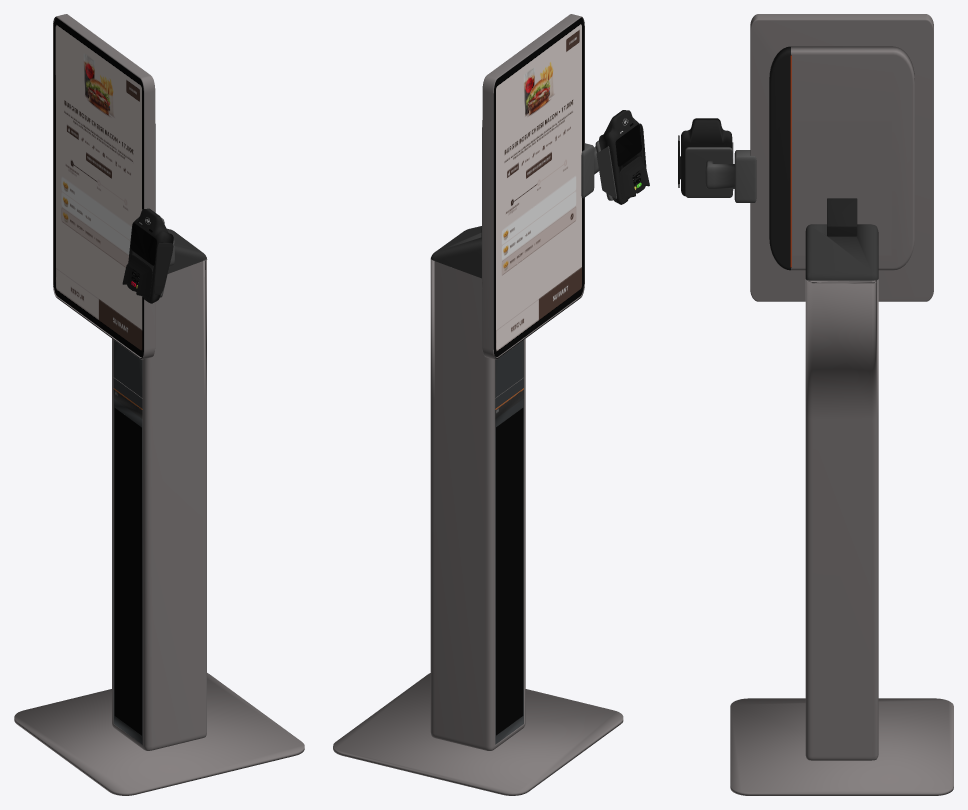
Rendered from borne_sunmi_v2.glb.
3 views of the same model, side by side, from view 1: azimuth 30°, elevation 25°; view 2: azimuth 150°, elevation 25°; view 3: azimuth 270°, elevation 25° (orthographic).
Parts seen in each view (by area): view 1: pieds.001, ecran_1.001, socle, ecran_1, tpe, cache, ecran, tpe carte; view 2: pieds.001, ecran_1.001, socle, ecran_1, tpe, cache, Cube.006, ecran, Cube.009; view 3: pieds.001, ecran_1, socle 2, socle, Plane, Cube.006, Cube.008, tpe, Cube.003.
Part boxes in pixels (x1,y1,x2,y2): pieds.001: (112, 228, 207, 750); ecran_1.001: (53, 18, 143, 357); socle: (14, 673, 304, 795); ecran_1: (53, 14, 155, 359); tpe: (127, 208, 173, 303); cache: (122, 255, 152, 297); ecran: (130, 223, 156, 265); tpe carte: (153, 242, 173, 294); pieds.001: (430, 226, 525, 750); ecran_1.001: (494, 18, 583, 357); socle: (333, 673, 623, 795); ecran_1: (482, 14, 584, 359); tpe: (599, 110, 645, 204); cache: (619, 156, 649, 199); Cube.006: (581, 143, 598, 198); ecran: (615, 124, 641, 166); Cube.009: (596, 146, 616, 198); pieds.001: (805, 224, 878, 760); ecran_1: (750, 14, 933, 301); socle 2: (769, 46, 914, 270); socle: (730, 698, 953, 795); Plane: (792, 121, 891, 255); Cube.006: (705, 150, 756, 202); Cube.008: (685, 147, 732, 197); tpe: (681, 118, 732, 196); Cube.003: (827, 198, 857, 236).
Size of the model in its own units: 1.13 by 3.9 by 1.38.
41 materials, 14 textured.
